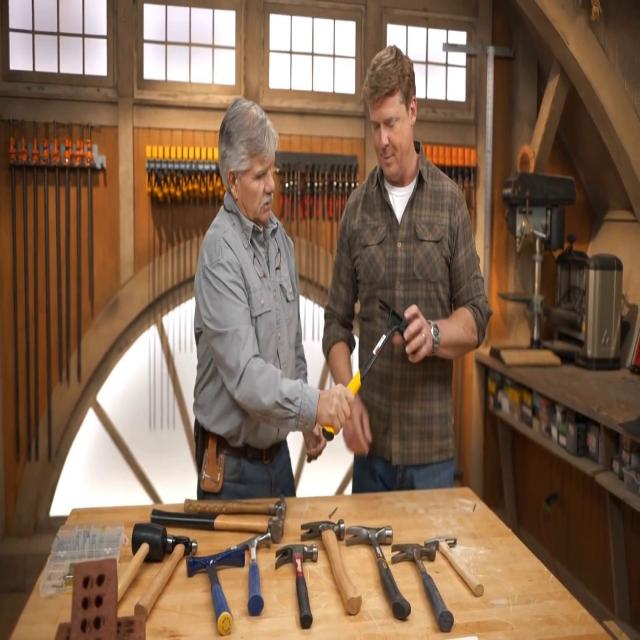hammer: (321, 297, 416, 443), (346, 524, 412, 620), (300, 519, 362, 615), (391, 541, 455, 634), (134, 534, 198, 620), (186, 544, 245, 635), (150, 508, 284, 545), (116, 520, 168, 604), (424, 536, 484, 598), (276, 542, 318, 630), (236, 528, 272, 616), (184, 494, 287, 516)
